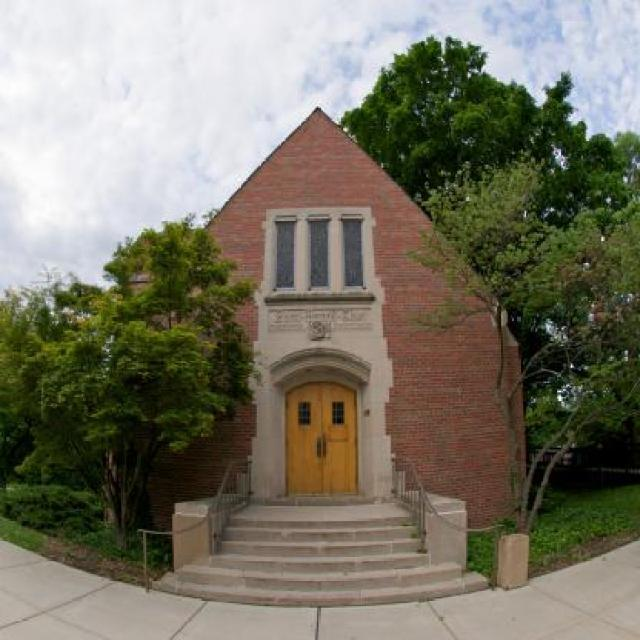stair: (150, 500, 487, 612)
